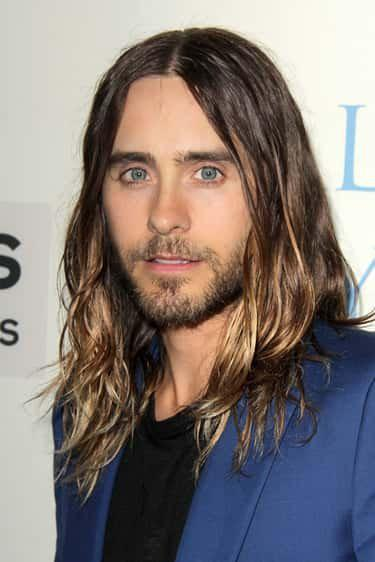Sober: (109, 95, 255, 298)
